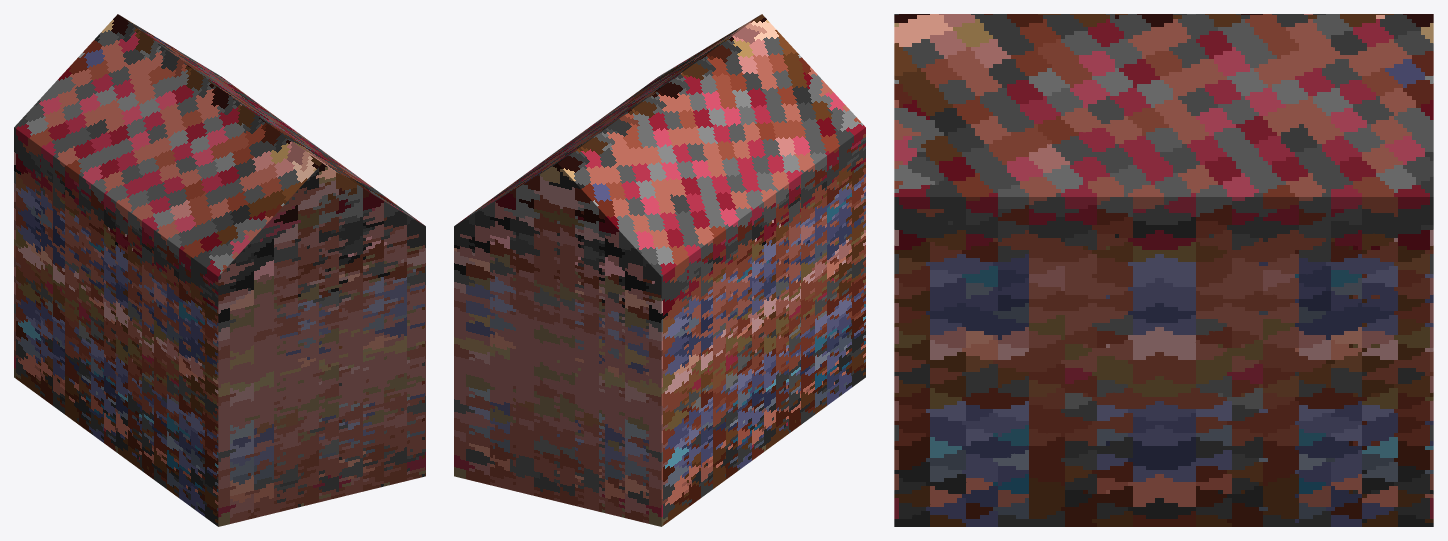
File: dum_18_stare_2.glb
3 views of the same model, side by side, from view 1: azimuth 30°, elevation 25°; view 2: azimuth 150°, elevation 25°; view 3: azimuth 270°, elevation 25° (orthographic). The views are drawn at different scales.
Bounding box in the file's own units: 4.39 × 6.84 × 7.49.
Materials: 1 (1 with a texture image).
